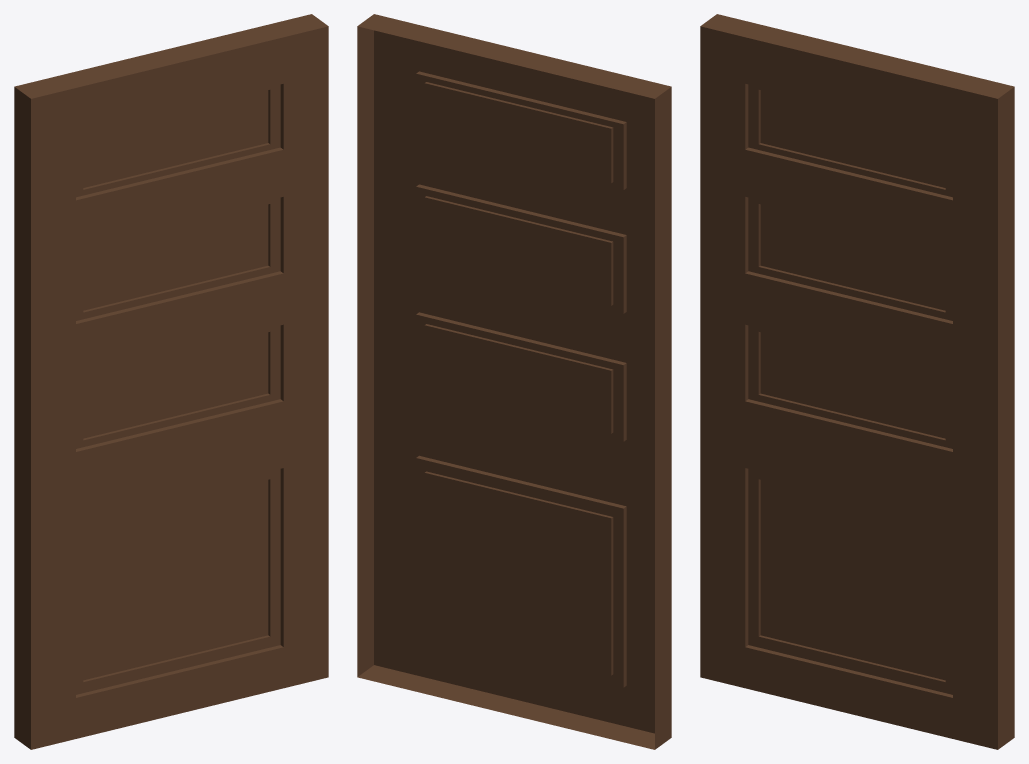
File: Door1.glb
3 views of the same model, side by side, from view 1: azimuth 30°, elevation 25°; view 2: azimuth 150°, elevation 25°; view 3: azimuth 330°, elevation 25° (orthographic).
Parts seen in each view (by area): view 1: Door1; view 2: Door1; view 3: Door1.
Boxes of the visible parts, x1=… form: Door1: x1=14, y1=14, x2=328, y2=749; Door1: x1=357, y1=14, x2=671, y2=749; Door1: x1=700, y1=14, x2=1014, y2=749.
Bounding box in the file's own units: 0.4386 × 0.9169 × 0.0429.
Materials: 1 (1 with a texture image).
